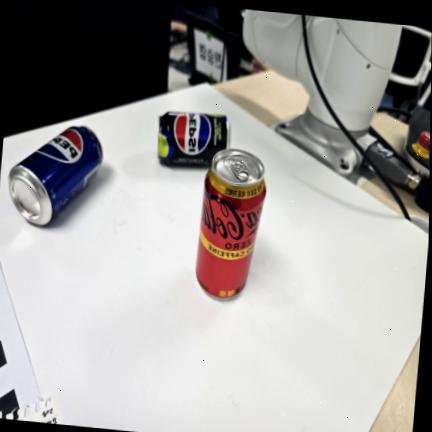can_coke_decaf: (195, 148, 266, 300)
can_pepsi: (6, 125, 103, 225)
can_pepsi_zero: (155, 113, 231, 168)
